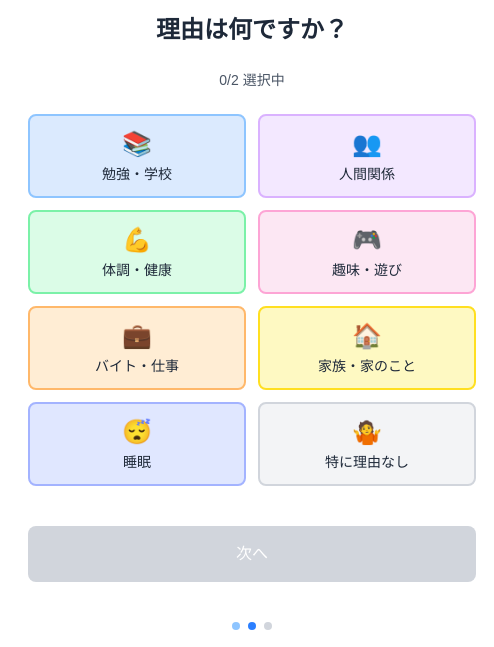
Test: RecordPage - ステップ2: 理由選択 › バリデーションテスト › 理由選択後に次へボタンが有効化される
The image size is (494, 647).
Expected: the heading "理由は何ですか？" is shown, 156,16 -> 348,43
Click the button "📚 勉強・学校" at (137, 156), box 28,114 -> 246,198
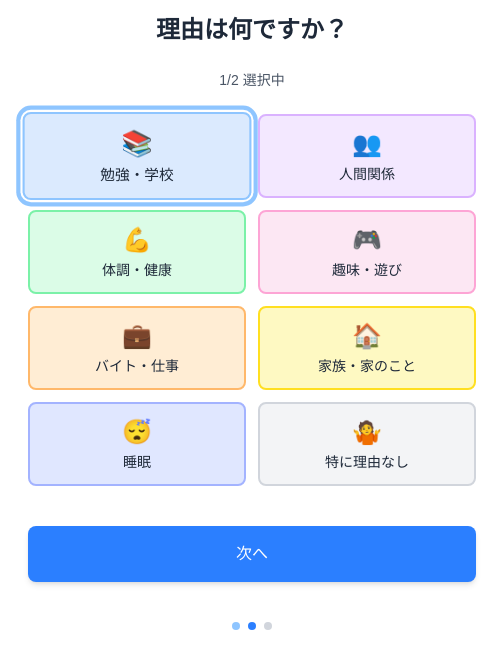
Expected: the button "次へ" is enabled, 28,526 -> 476,582
